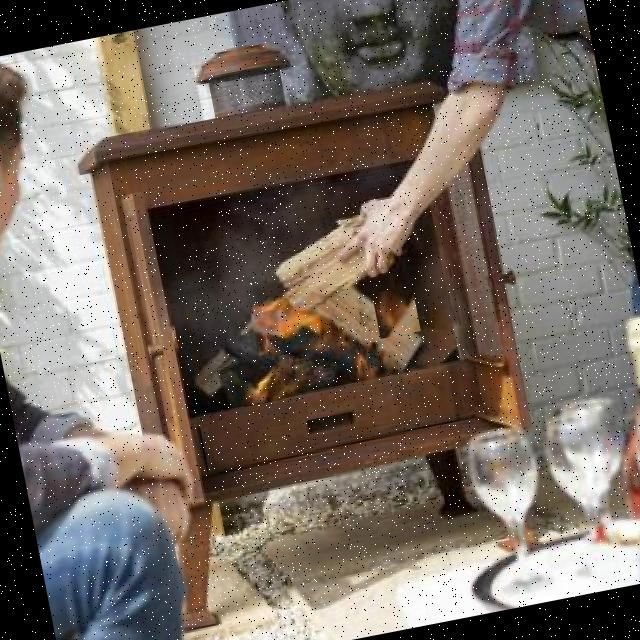fire: (245, 273, 335, 359), (372, 286, 421, 339), (236, 353, 282, 407)
